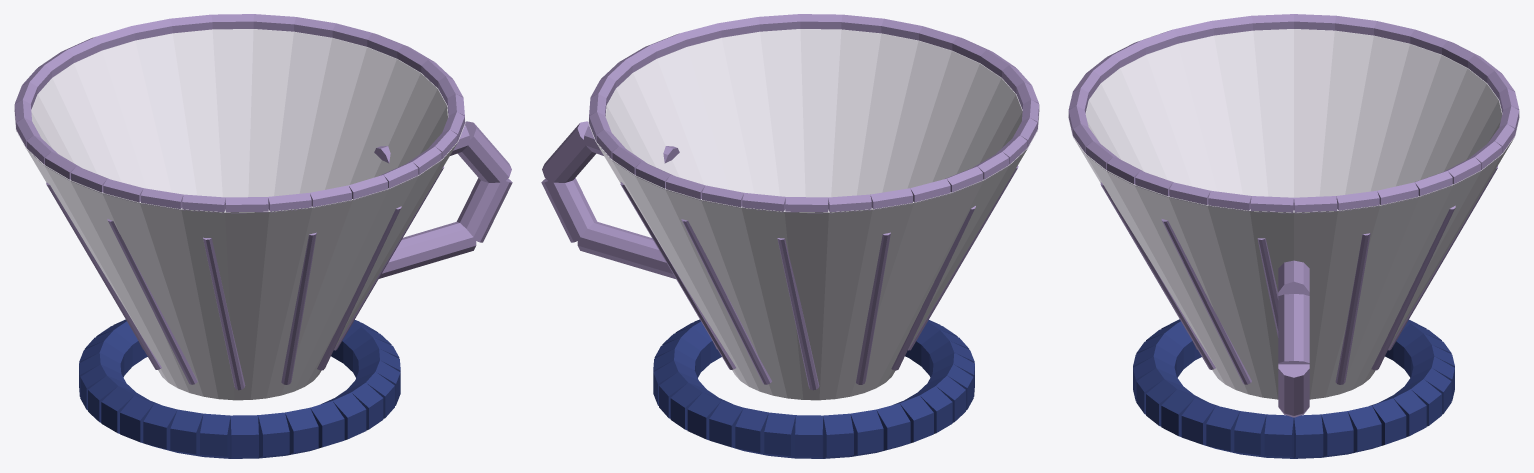
The model's file is dripper.glb.
The picture shows the model from 3 angles, left to right: view 1: azimuth 30°, elevation 25°; view 2: azimuth 150°, elevation 25°; view 3: azimuth 270°, elevation 25°; orthographic projection.
Visible parts, largest first — view 1: conical wall, handle3, handle2, handle1, flute40, flute30, flute50, support foot9, support foot11, support foot12, support foot10, support foot8 (+40 smaller); view 2: conical wall, handle3, handle2, handle1, flute80, flute70, flute90, support foot22, support foot20, support foot19, support foot21, support foot23 (+40 smaller); view 3: conical wall, handle1, handle2, flute110, flute10, support foot1, support foot30, support foot0, support foot31, support foot2, support foot29, flute100 (+42 smaller).
Part boxes in pixels (bbox=[...]): conical wall: bbox=[14, 29, 465, 400]; handle3: bbox=[379, 221, 476, 278]; handle2: bbox=[457, 178, 512, 242]; handle1: bbox=[457, 121, 511, 183]; flute40: bbox=[203, 237, 245, 390]; flute30: bbox=[281, 232, 316, 384]; flute50: bbox=[107, 219, 197, 384]; support foot9: bbox=[258, 412, 289, 458]; support foot11: bbox=[200, 413, 230, 458]; support foot12: bbox=[170, 409, 203, 456]; support foot10: bbox=[230, 415, 258, 458]; support foot8: bbox=[285, 407, 318, 455]; conical wall: bbox=[588, 29, 1039, 400]; handle3: bbox=[577, 221, 675, 278]; handle2: bbox=[541, 178, 596, 242]; handle1: bbox=[542, 121, 596, 183]; flute80: bbox=[777, 238, 819, 390]; flute70: bbox=[856, 232, 890, 384]; flute90: bbox=[681, 219, 771, 384]; support foot22: bbox=[764, 412, 795, 458]; support foot20: bbox=[823, 413, 853, 458]; support foot19: bbox=[850, 409, 883, 456]; support foot21: bbox=[795, 415, 823, 458]; support foot23: bbox=[735, 407, 768, 455]; conical wall: bbox=[1068, 29, 1519, 399]; handle1: bbox=[1278, 294, 1309, 364]; handle2: bbox=[1278, 364, 1309, 415]; flute110: bbox=[1335, 233, 1370, 384]; flute10: bbox=[1161, 219, 1251, 384]; support foot1: bbox=[1234, 411, 1266, 457]; support foot30: bbox=[1321, 411, 1353, 457]; support foot0: bbox=[1264, 414, 1293, 458]; support foot31: bbox=[1294, 414, 1323, 458]; support foot2: bbox=[1206, 405, 1239, 454]; support foot29: bbox=[1348, 405, 1381, 454]; flute100: bbox=[1371, 205, 1455, 370].
Size of the model in its own units: 1.57 by 0.947 by 1.32.
